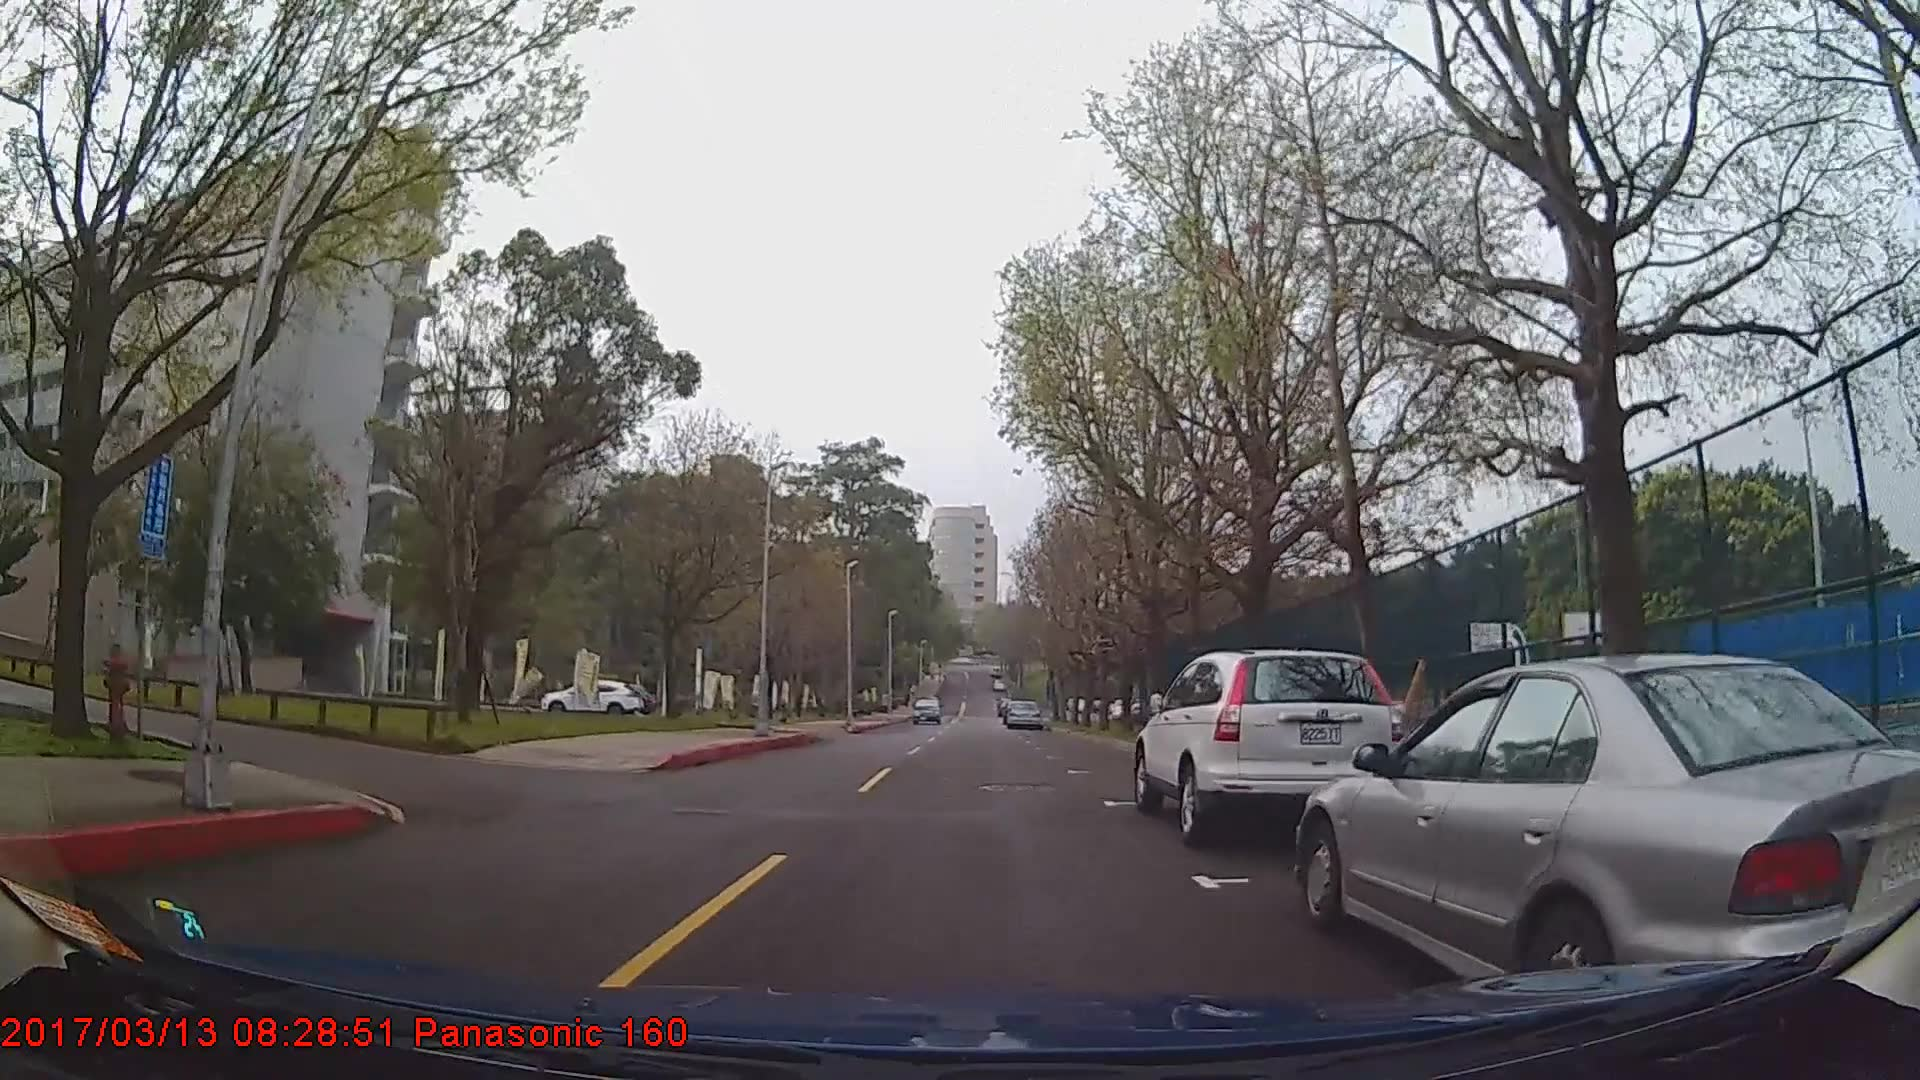vehicle: (1294, 649, 1920, 1022), (1133, 650, 1404, 847), (539, 676, 644, 716), (1004, 698, 1040, 729), (909, 694, 942, 723)
